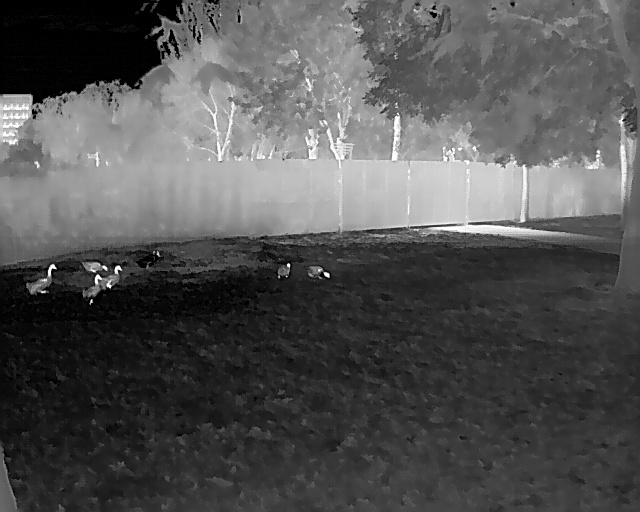duck: (28, 263, 58, 298), (81, 271, 104, 307), (133, 248, 164, 271), (101, 264, 123, 290), (303, 264, 333, 281), (79, 258, 108, 273), (277, 261, 294, 280)
